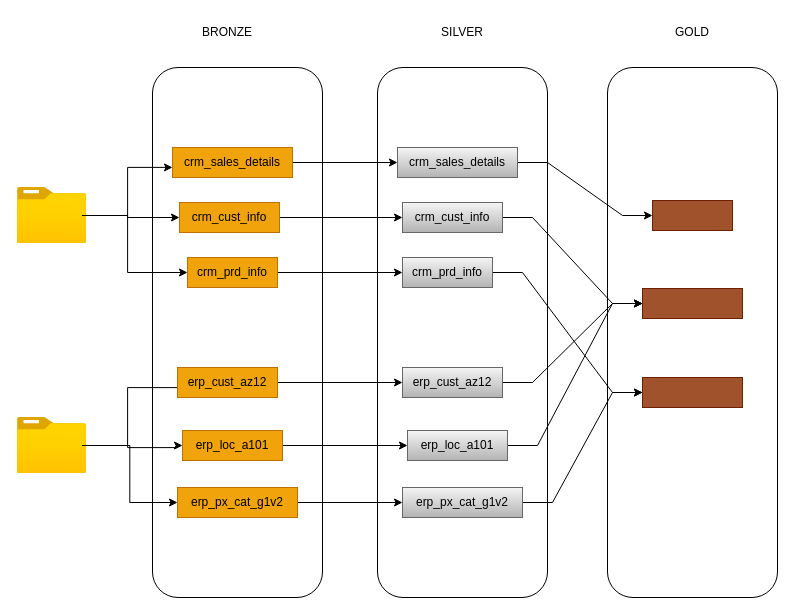
This 795x615 diagram has some shape labels left out. Here are the shapes that lost their labels. From the top down, the box of each, then its label:
(17, 187, 86, 243): CRM
(652, 200, 732, 230): fact_sales
(642, 288, 742, 318): dim_customers
(642, 376, 742, 408): dim_products
(17, 417, 86, 473): ERP
